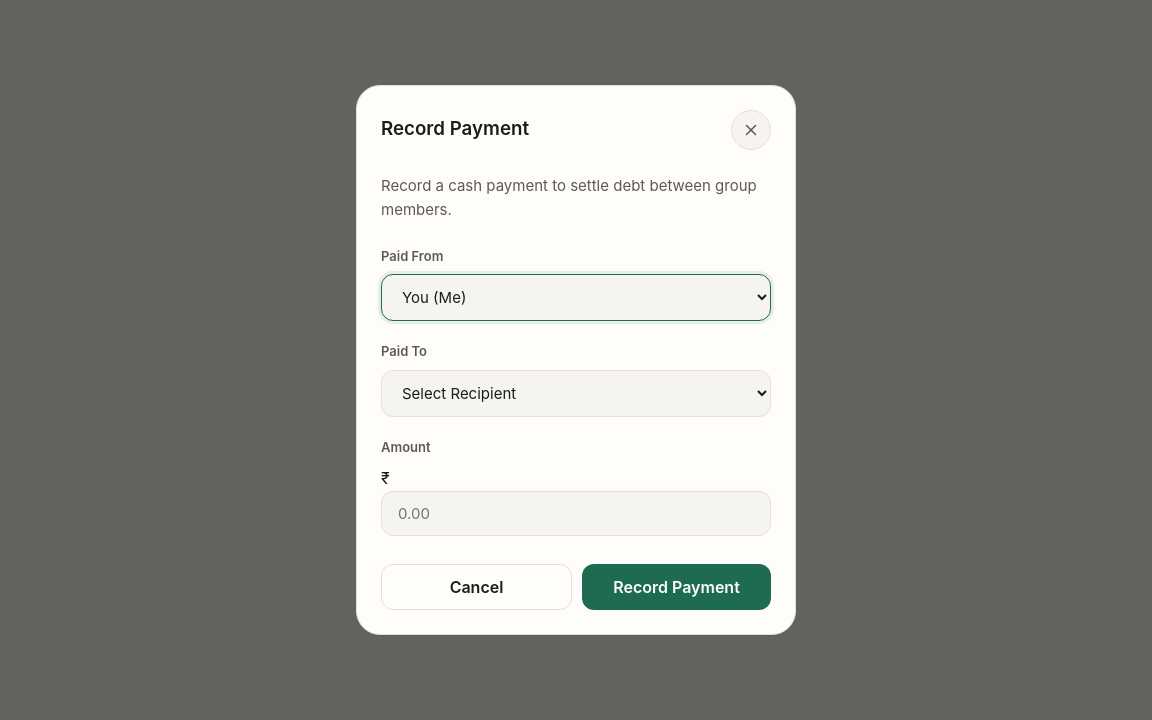
SettleUpModal › switching the payer back to you clears the forced recipient
The width and height of the screenshot is (1152, 720).
Select "riya" in the dropdown labelled "Paid From" at x=576, y=298, box [381, 274, 771, 321]
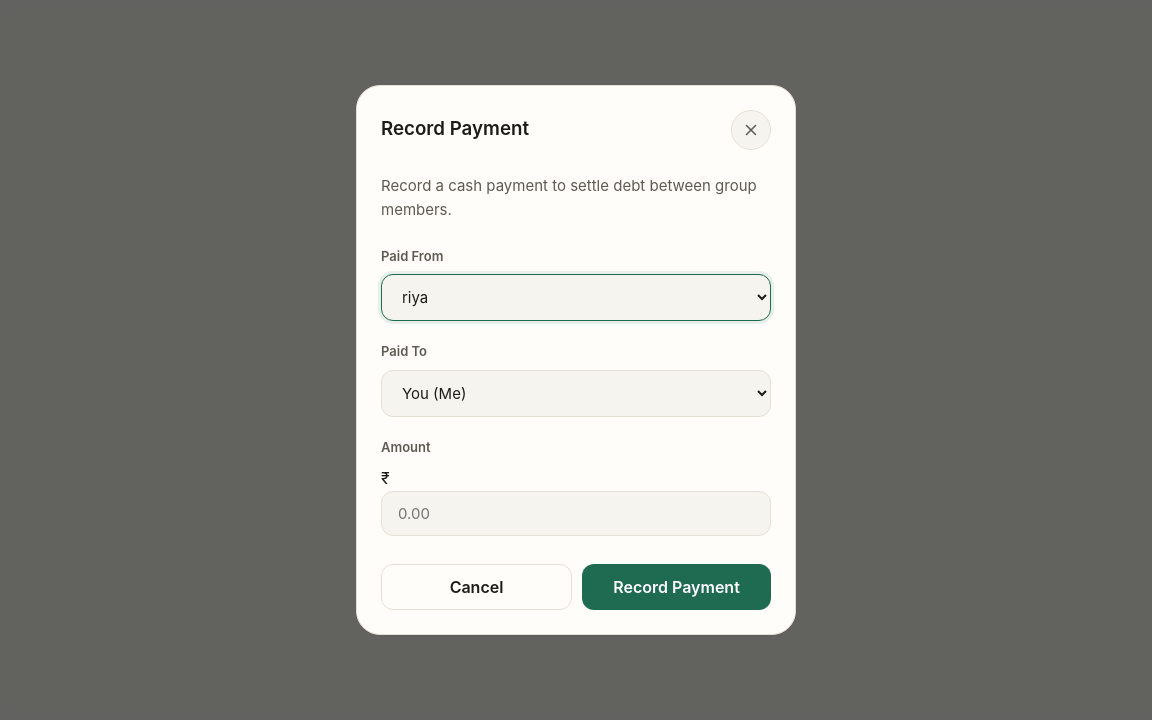
Select "You (Me)" in the dropdown labelled "Paid From" at x=576, y=298, box [381, 274, 771, 321]
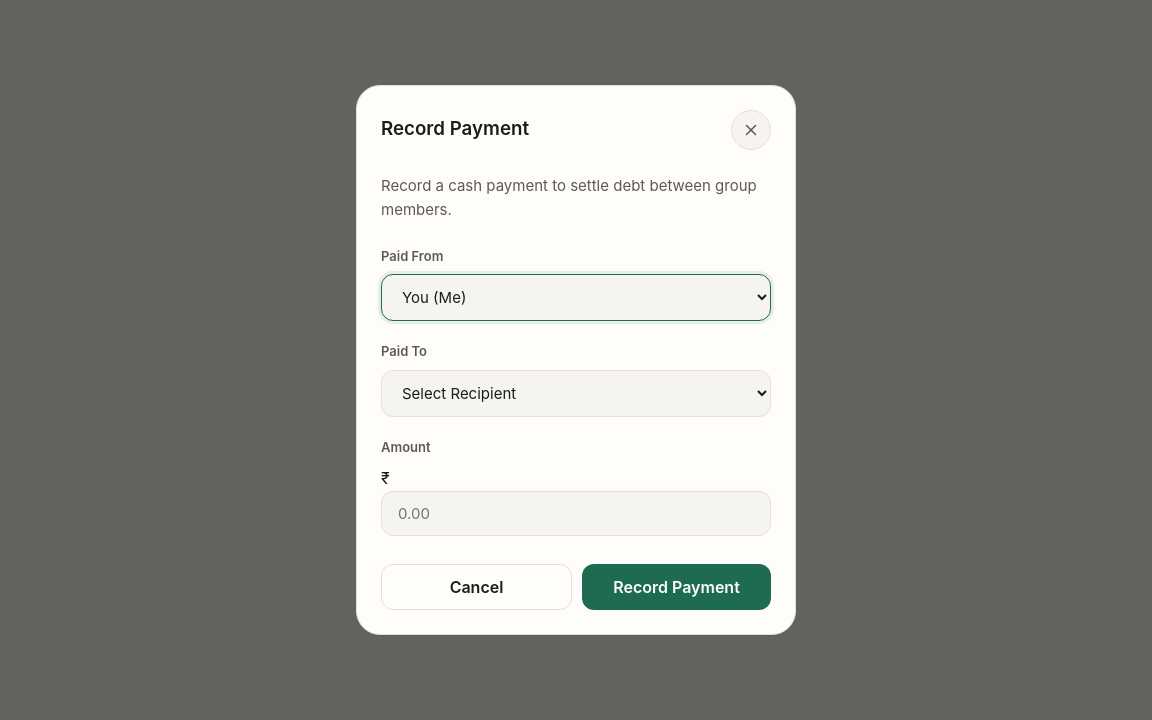
Now the dropdown labelled "Paid To" shows "Select Recipient", box [381, 370, 771, 417]
